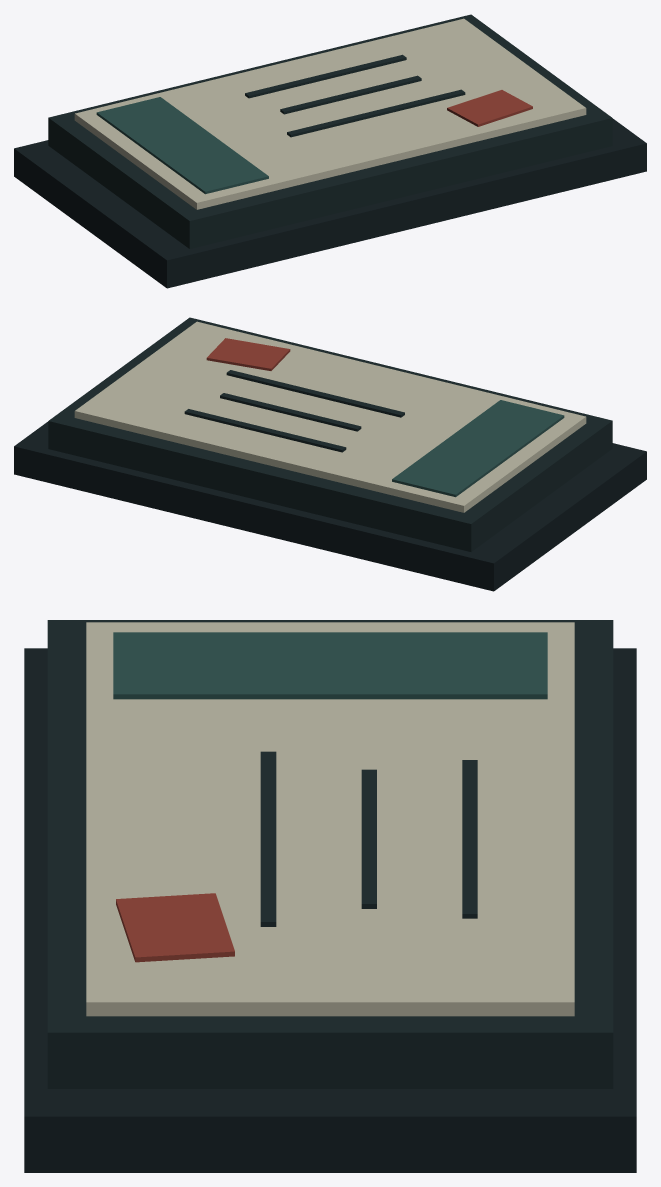
The model's file is parking-permit.glb.
3 views of the same model, one above another, from view 1: azimuth 30°, elevation 25°; view 2: azimuth 150°, elevation 25°; view 3: azimuth 270°, elevation 25° (orthographic). The views are drawn at different scales.
Visible parts, largest first — view 1: parking-permit; view 2: parking-permit; view 3: parking-permit.
Boxes of the visible parts, x1,y1,x2,y2 form: parking-permit: (14,14,646,288); parking-permit: (14,317,646,591); parking-permit: (24,620,636,1172).
Bounding box in the file's own units: 0.143 × 0.0187 × 0.079.
